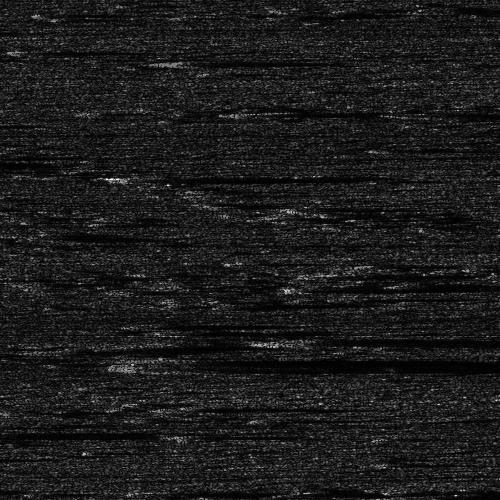object: (239, 281, 354, 294), (277, 269, 350, 278), (255, 336, 328, 345), (0, 228, 68, 237), (401, 4, 454, 13), (82, 173, 155, 178), (157, 325, 188, 336), (168, 403, 209, 410), (227, 109, 280, 114), (151, 59, 204, 64), (363, 145, 404, 150), (124, 363, 155, 368), (11, 49, 42, 52), (156, 321, 167, 328)
shadow: (0, 428, 279, 439), (297, 281, 500, 294), (292, 336, 500, 345), (189, 403, 382, 410), (173, 325, 287, 336), (254, 109, 500, 114), (118, 173, 346, 178), (314, 269, 437, 278), (161, 321, 314, 328), (26, 228, 135, 237), (178, 59, 331, 64), (428, 4, 500, 13), (384, 145, 500, 150), (27, 49, 173, 52), (140, 363, 177, 368), (0, 454, 25, 461)
